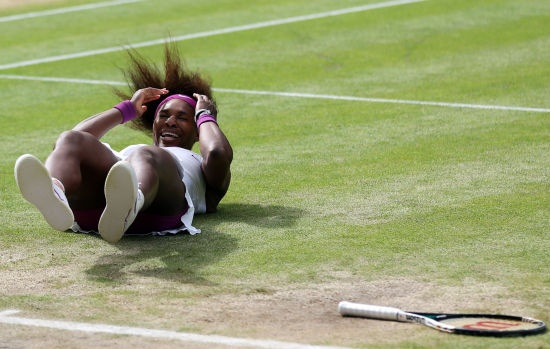falling: (14, 37, 250, 245)
